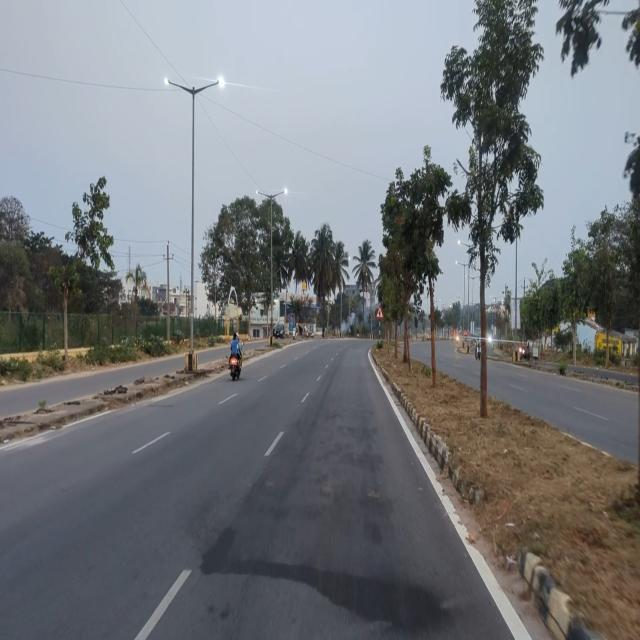bien_cam: (374, 304, 385, 319)
